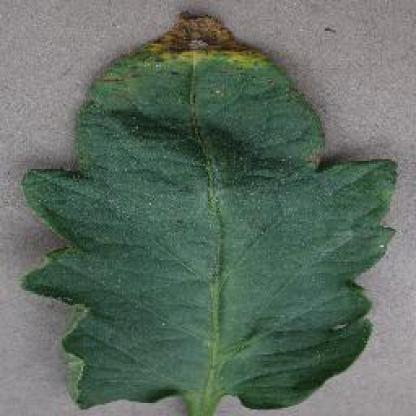bad leaf: (10, 14, 404, 414)
